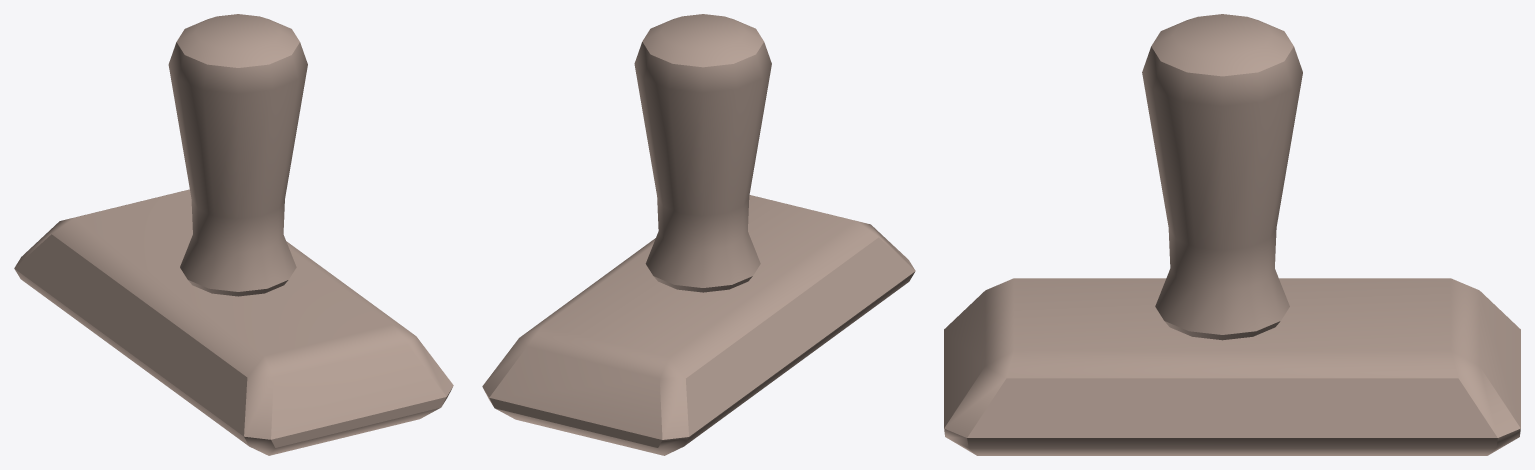
Rendered from SM_Buffer.fbx.
3 views of the same model, side by side, from view 1: azimuth 30°, elevation 25°; view 2: azimuth 150°, elevation 25°; view 3: azimuth 270°, elevation 25° (orthographic). The views are drawn at different scales.
Visible parts, largest first — view 1: SM_Buffer; view 2: SM_Buffer; view 3: SM_Buffer.
Boxes of the visible parts, box(x1,y1,x2,y2) form: SM_Buffer: box(14, 14, 453, 455); SM_Buffer: box(482, 14, 915, 455); SM_Buffer: box(944, 14, 1520, 455).
Size of the model in its own units: 7.77 by 11.6 by 16.03.
